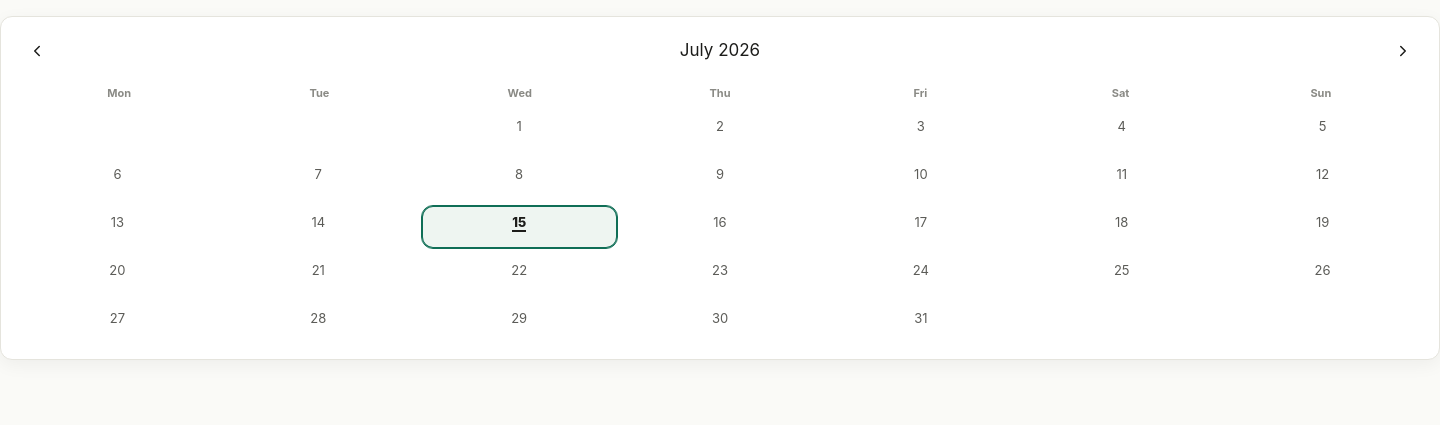
Test: HistoryMonthCalendar › navigates months with controls and keeps future dates available
Check: the heading "July 2026" is shown, box [680,40,760,60]
Click the button named "Next month". click: (1403, 51)
box: [1385,33,1421,69]
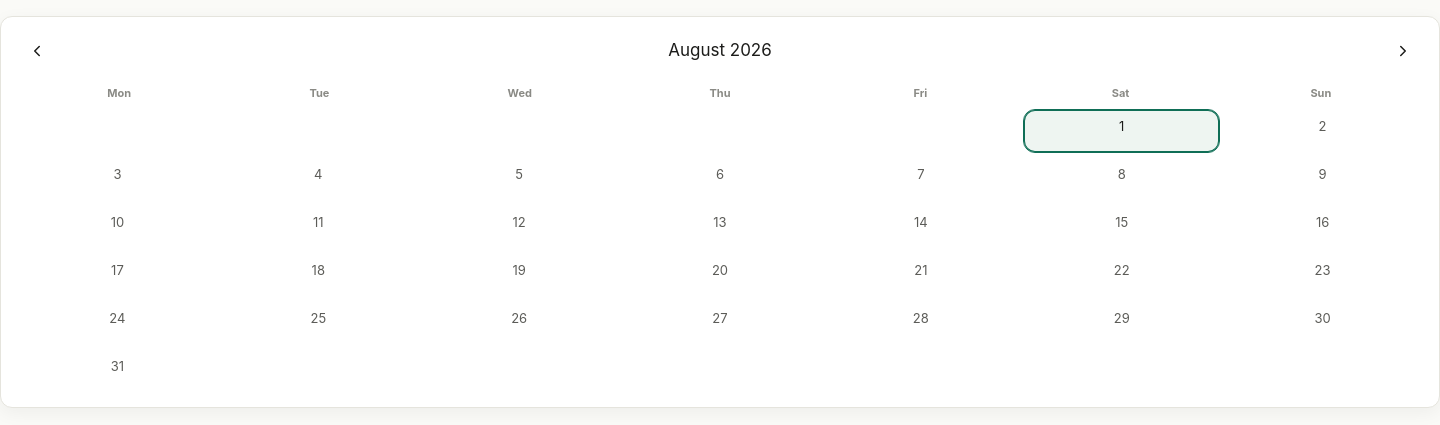
Check: the button named "Open Monday, August 10, 2026" is enabled, box [19,204,216,248]
Check: the heading "August 2026" is shown, box [668,40,772,60]
Click the button named "Previous month". click: (37, 51)
box: [19,33,55,69]
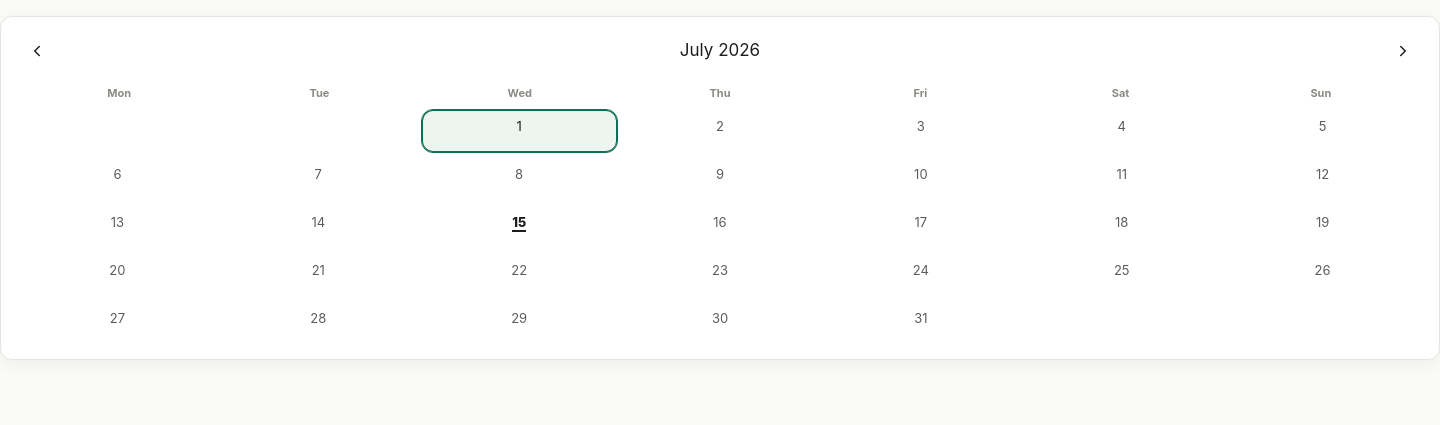
Check: the heading "July 2026" is shown, box [680,40,760,60]
